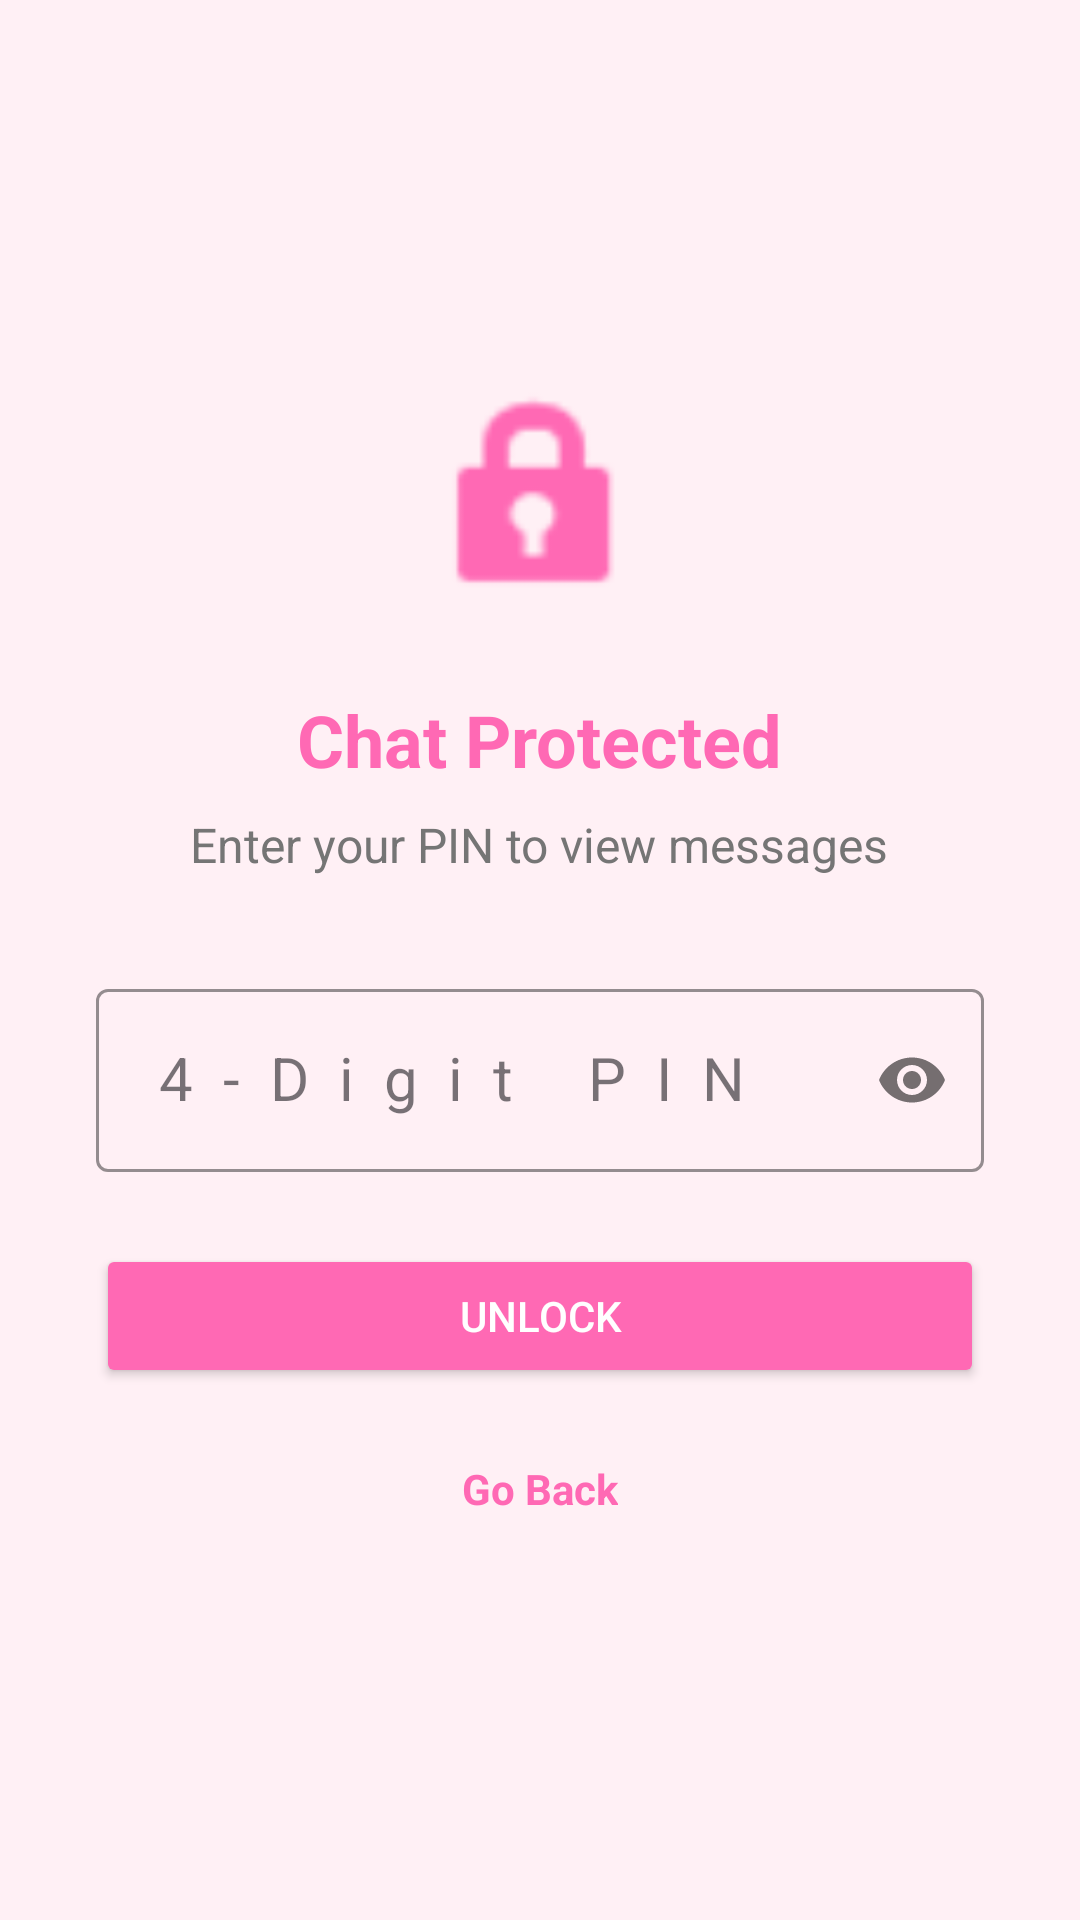

Screen size 1080*1920. Icon name, then its box in pixels as box(x1, y1, x2, y2):
lock idle: box(456, 400, 612, 583)
